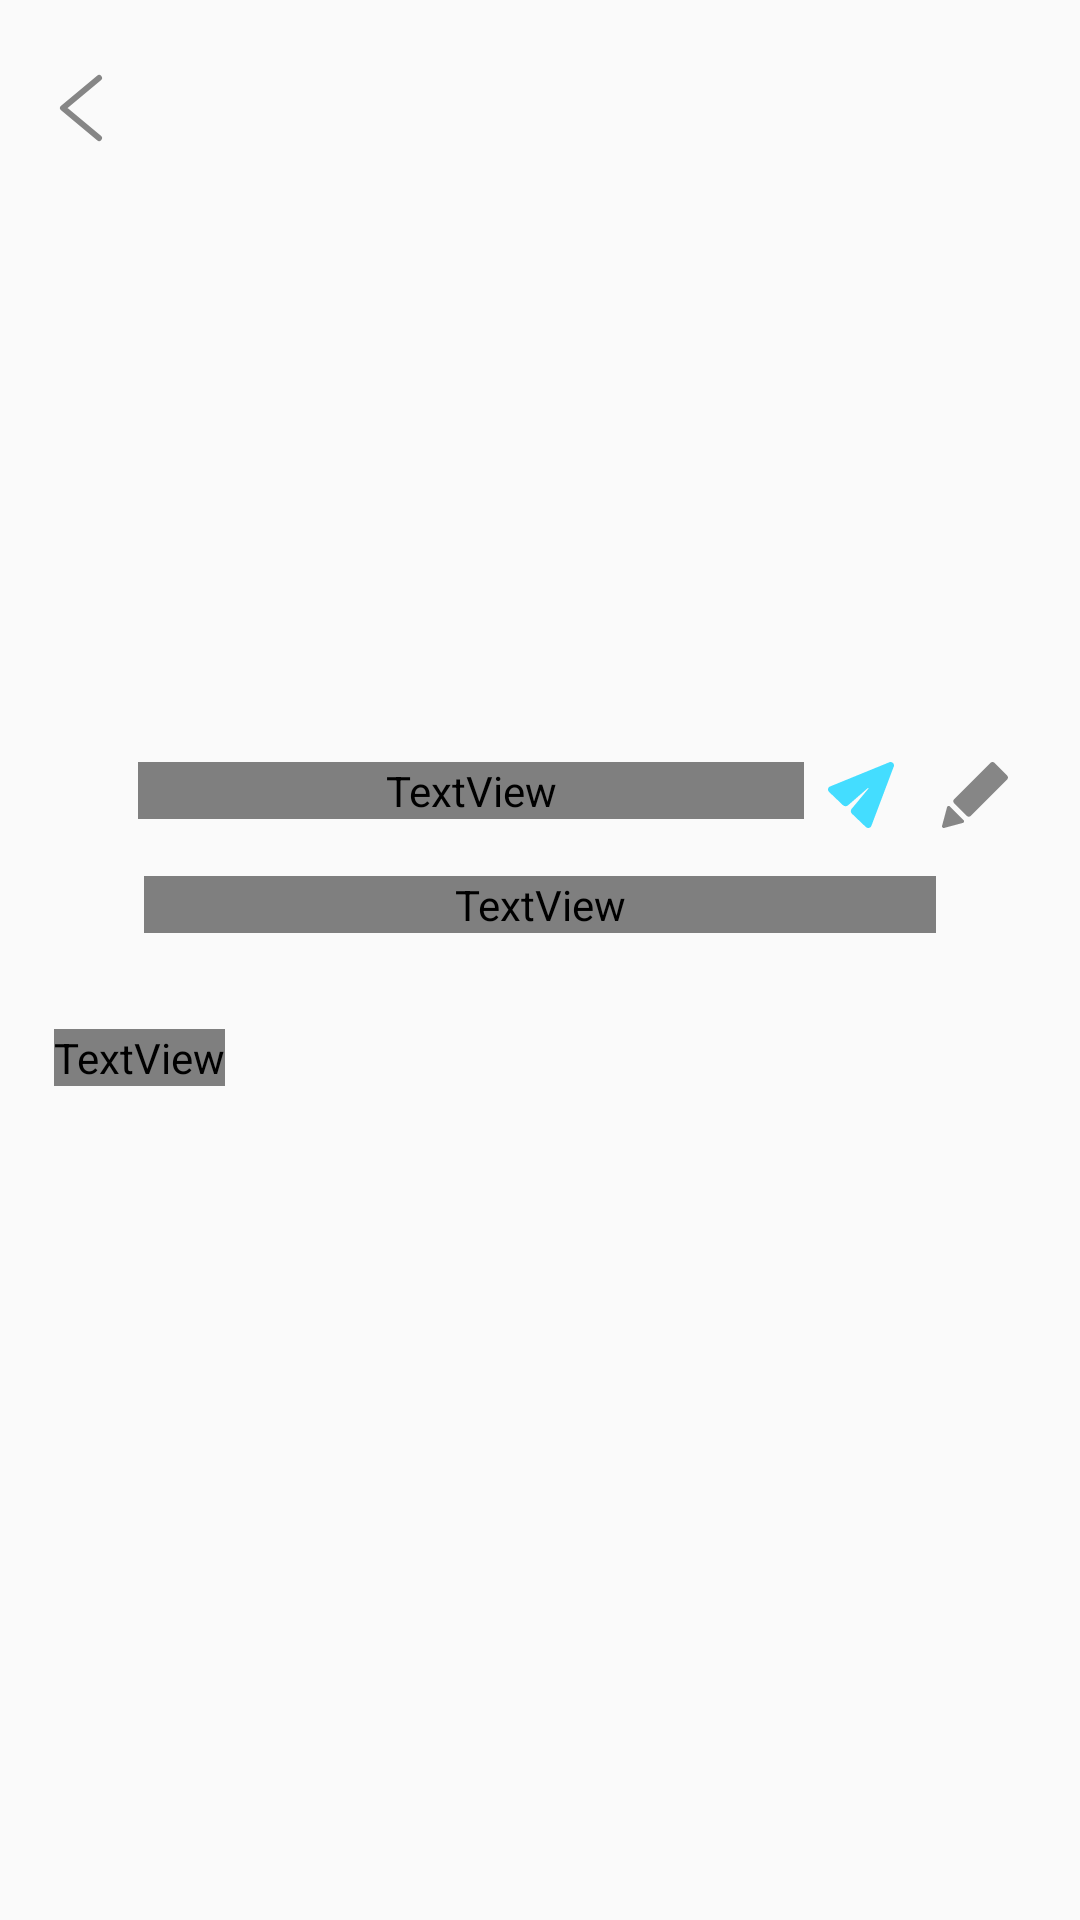

Named icons in this screenshot (1080px×1920px) and their bounding boxes, BBox(x1, y1, x2, y2):
arrow back: BBox(60, 75, 102, 141)
edit: BBox(942, 762, 1008, 828)
share: BBox(828, 762, 894, 828)
